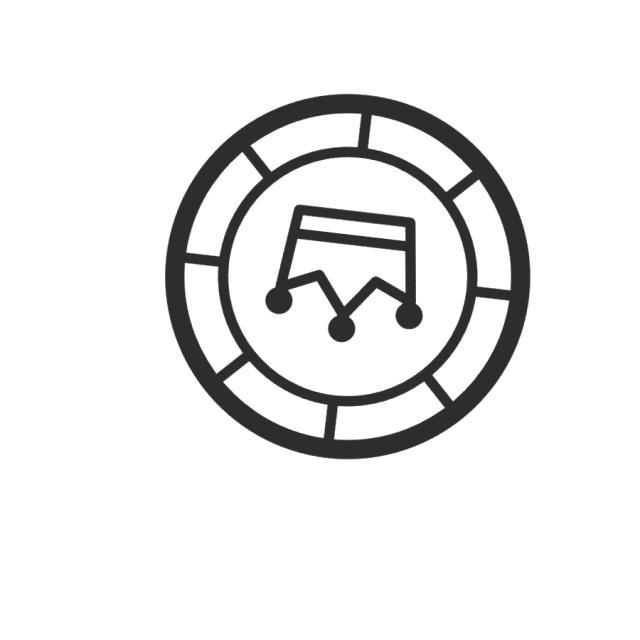coin: (159, 89, 538, 471)
